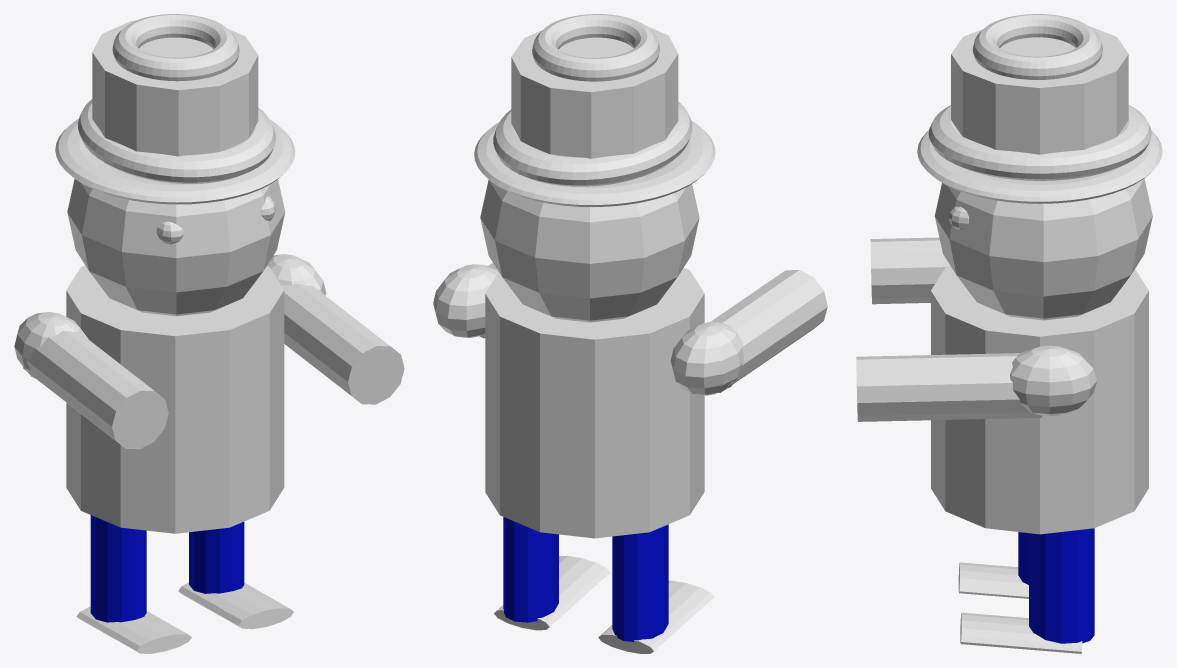
File: ZombieMinecraft.fbx
3 views of the same model, side by side, from view 1: azimuth 30°, elevation 25°; view 2: azimuth 150°, elevation 25°; view 3: azimuth 270°, elevation 25° (orthographic).
Parts seen in each view (by area): view 1: Cylinder; view 2: Cylinder; view 3: Cylinder.
Part boxes in pixels (x1,y1,x2,y2): Cylinder: (14, 14, 404, 653); Cylinder: (433, 14, 827, 653); Cylinder: (856, 14, 1162, 653).
Size of the model in its own units: 566 by 1064 by 505.
